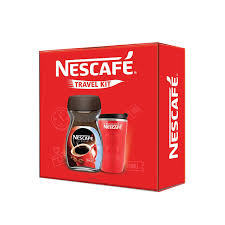nescafe-classic/gold-med: (64, 89, 103, 172)
